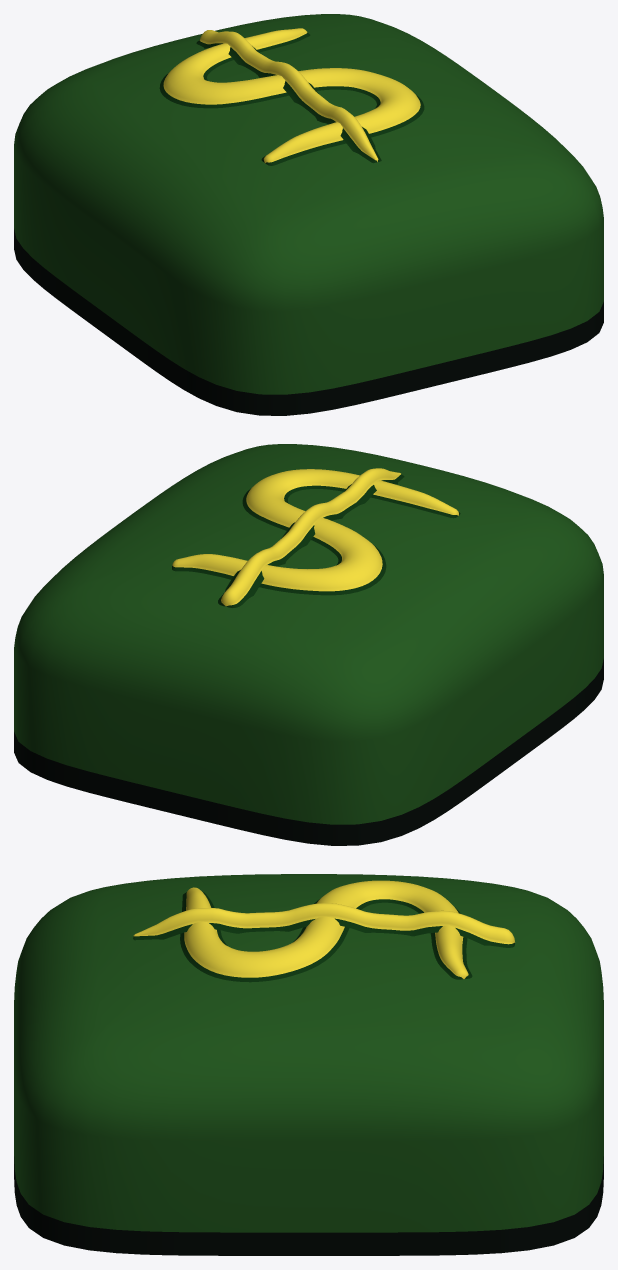
File: block_dollar.glb
The picture shows the model from 3 angles, top to bottom: view 1: azimuth 30°, elevation 25°; view 2: azimuth 150°, elevation 25°; view 3: azimuth 270°, elevation 25°; orthographic projection. The views are drawn at different scales.
Visible parts, largest first — view 1: block, s, bar; view 2: block, s, bar; view 3: block, s, bar.
Part boxes in pixels (<box>): block: <box>14,14,603,415</box>; s: <box>159,28,424,165</box>; bar: <box>196,30,381,163</box>; block: <box>14,444,603,845</box>; s: <box>172,469,460,595</box>; bar: <box>218,468,404,607</box>; block: <box>14,874,603,1255</box>; s: <box>180,880,472,982</box>; bar: <box>133,903,515,947</box>.
Size of the model in its own units: 22 by 11.19 by 25.2.
